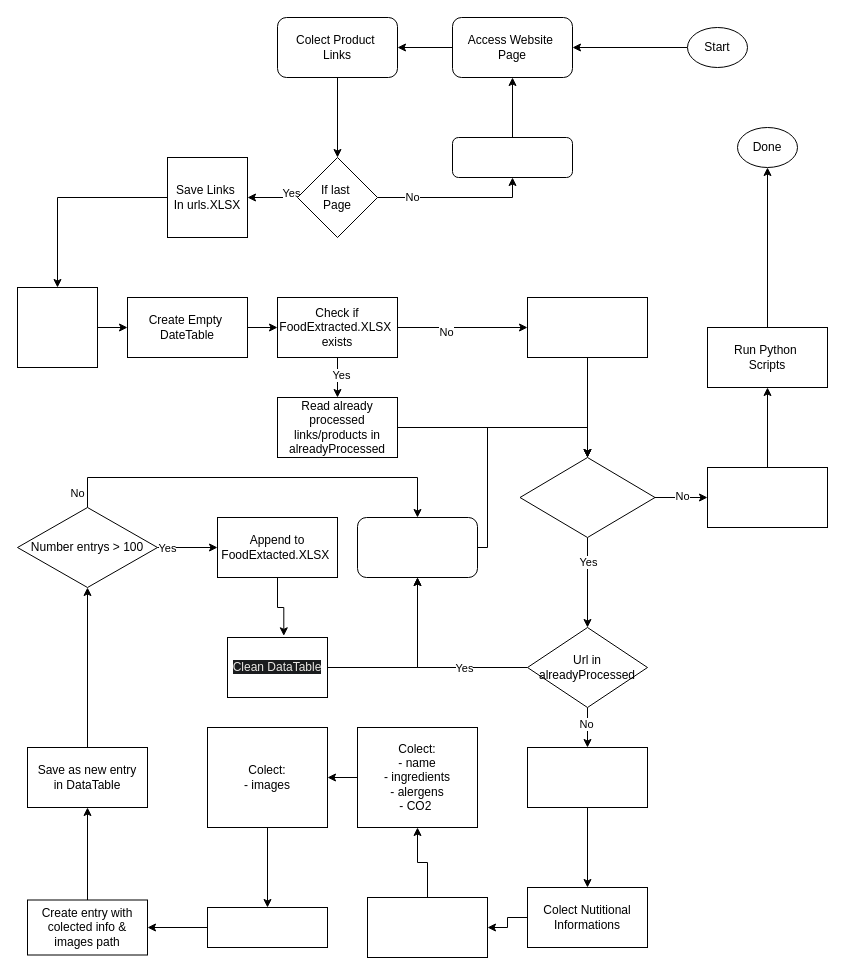
Some shapes in this 845 by 975 pixel diagram are drawn without their labels. Here are the shapes that lost their labels. From the top down, the centre of each, then its label:
[512,157]: Next Page
[57,327]: Read urls.XLSX
[587,327]: Create empty FoodExtracted.XLSX
[587,497]: Remains urls to extract data from ?
[767,497]: Save any data from DateTable into FoodExtracted.XLSX
[417,547]: Next Url
[587,777]: Aces url
[267,927]: Save images
[427,927]: Save nustrition as new page in Nutritions.XLSX
